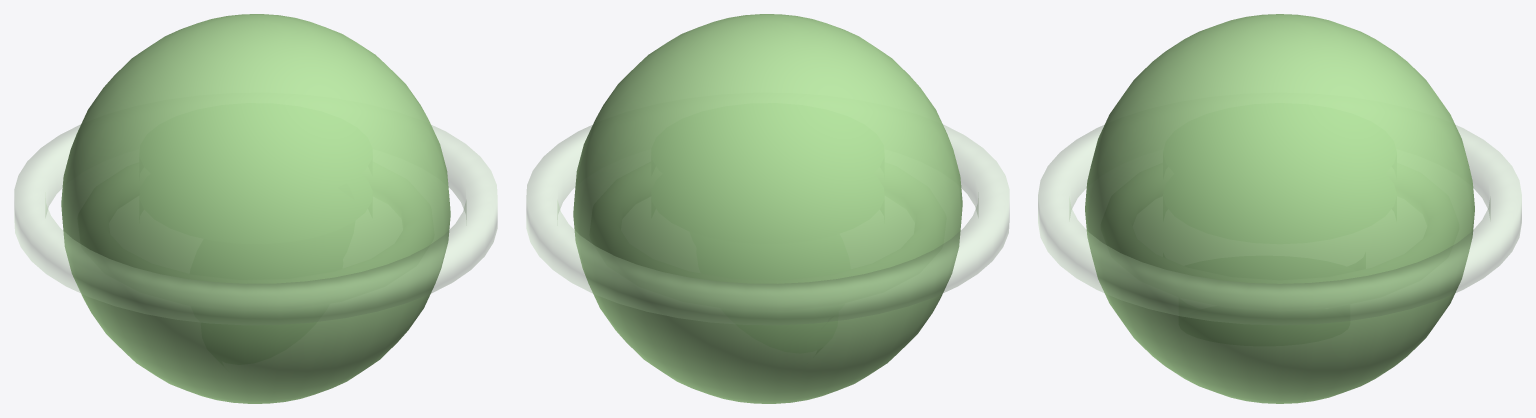
The model's file is chloroplast.glb.
3 views of the same model, side by side, from view 1: azimuth 30°, elevation 25°; view 2: azimuth 150°, elevation 25°; view 3: azimuth 270°, elevation 25° (orthographic).
Parts seen in each view (by area): view 1: chloroplast, stroma; view 2: chloroplast, stroma; view 3: chloroplast, stroma.
Boxes of the visible parts, x1,y1,x2,y2 form: chloroplast: (61, 14, 450, 403); stroma: (14, 124, 497, 324); chloroplast: (573, 14, 962, 403); stroma: (526, 124, 1009, 324); chloroplast: (1085, 14, 1474, 403); stroma: (1038, 125, 1521, 324).
Size of the model in its own units: 1.23 by 0.9907 by 1.23.
